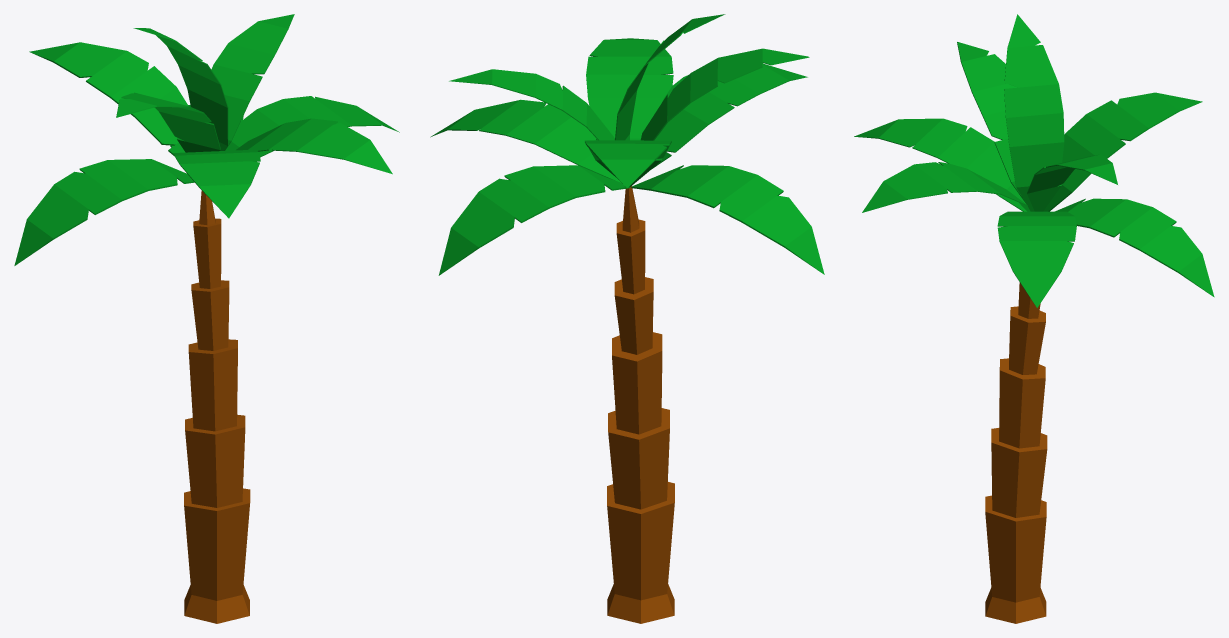
Rendered from treee2.glb.
3 views of the same model, side by side, from view 1: azimuth 30°, elevation 25°; view 2: azimuth 150°, elevation 25°; view 3: azimuth 270°, elevation 25° (orthographic). The views are drawn at different scales.
Visible parts, largest first — view 1: Plane.009, Cylinder.006; view 2: Plane.009, Cylinder.006; view 3: Plane.009, Cylinder.006.
Part boxes in pixels (x1,y1,x2,y2): Plane.009: (14, 14, 399, 265); Cylinder.006: (184, 190, 250, 623); Plane.009: (430, 14, 824, 275); Cylinder.006: (607, 186, 674, 623); Plane.009: (854, 14, 1214, 307); Cylinder.006: (985, 282, 1047, 623).
Bounding box in the file's own units: 7.7 × 11.43 × 6.72.
